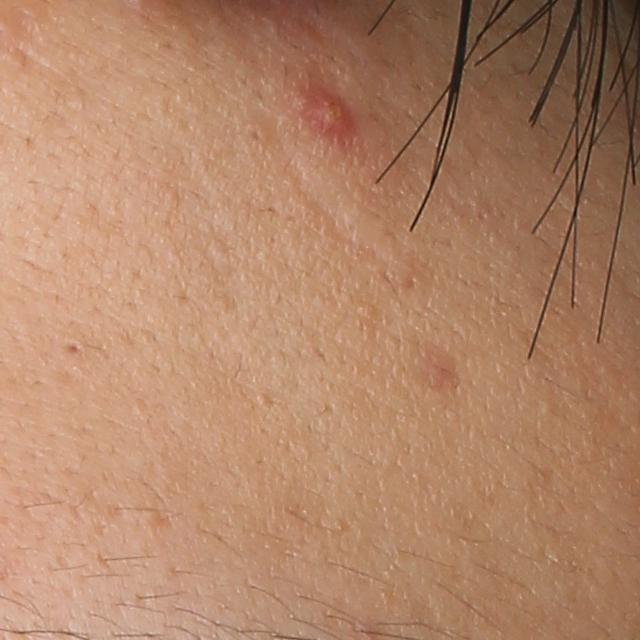comedo: (245, 127, 266, 146), (65, 339, 84, 357)
papule: (298, 83, 363, 146)
